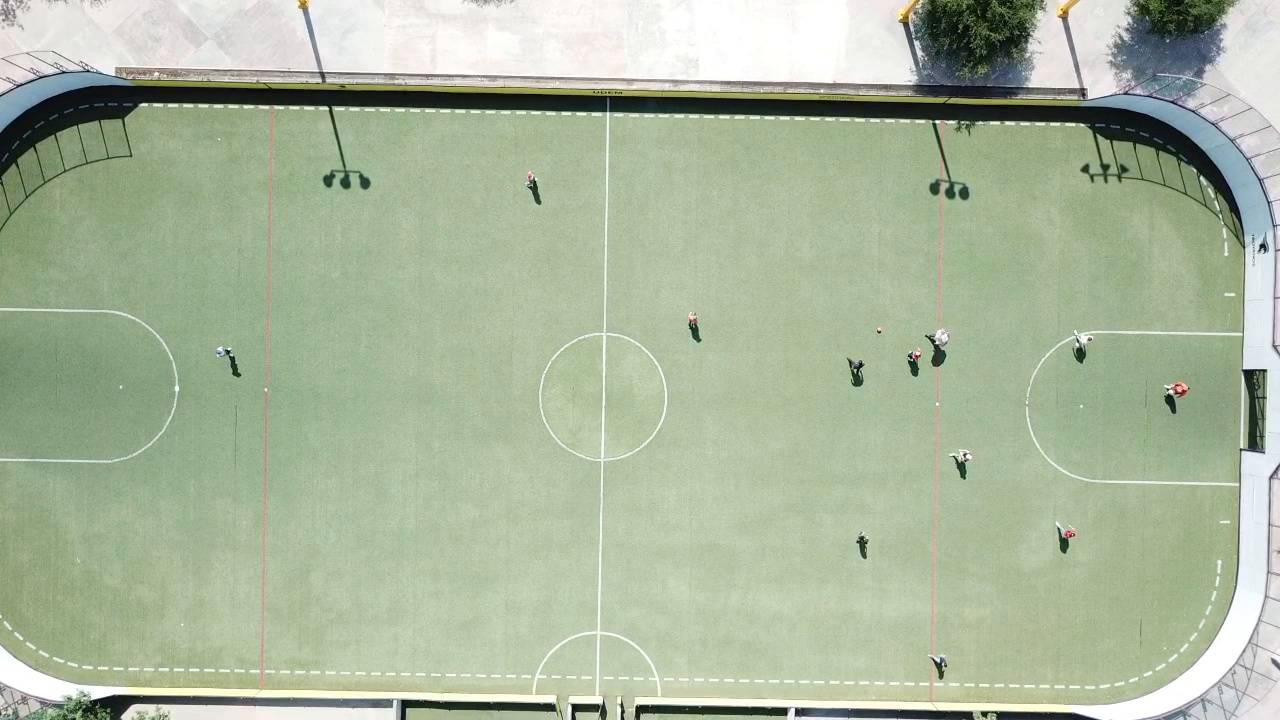ball: (877, 327, 882, 333)
player: (928, 328, 951, 347), (1056, 521, 1077, 540), (1166, 381, 1190, 397), (947, 449, 971, 464), (928, 653, 948, 669), (1077, 332, 1095, 345), (850, 359, 864, 374), (526, 171, 537, 189), (909, 348, 922, 362), (857, 532, 869, 546), (688, 312, 698, 327), (215, 346, 226, 358)
